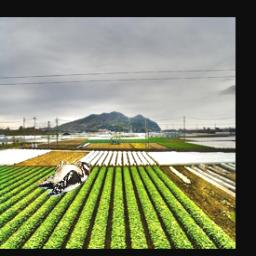Woodpecker: (34, 158, 89, 196)
